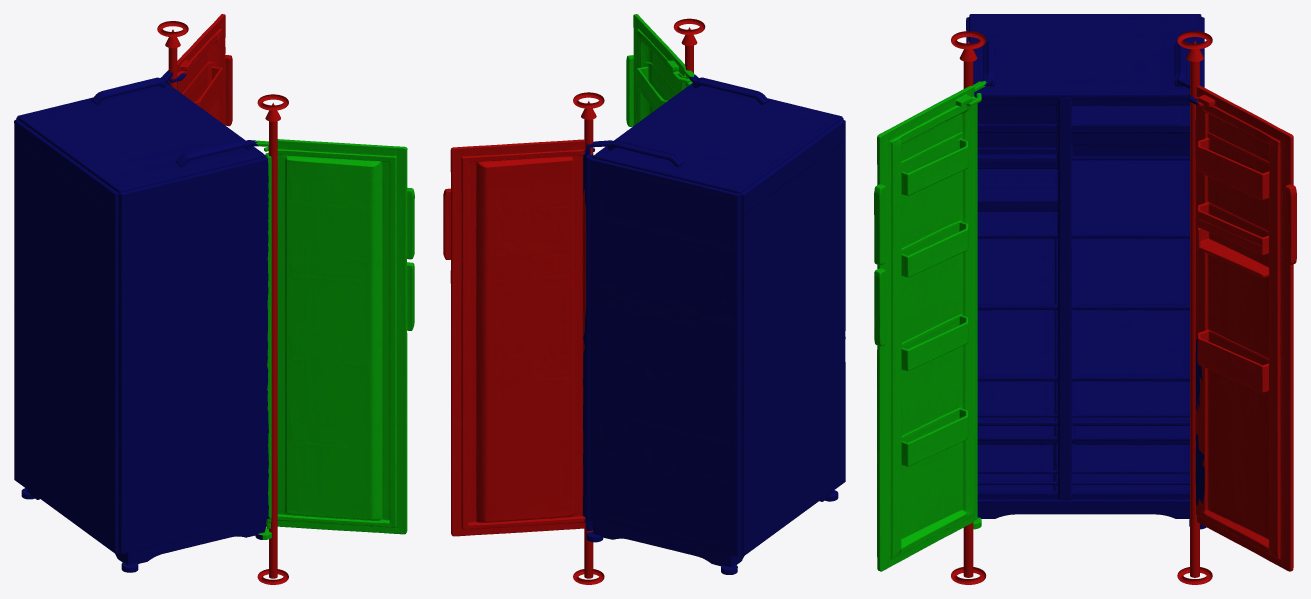
File: fridge_00.glb
3 views of the same model, side by side, from view 1: azimuth 30°, elevation 25°; view 2: azimuth 150°, elevation 25°; view 3: azimuth 270°, elevation 25° (orthographic). The views are drawn at different scales.
Visible parts, largest first — view 1: world; view 2: world; view 3: world.
Part boxes in pixels (bbox=[...]): world: bbox=[14, 14, 414, 584]; world: bbox=[443, 14, 845, 584]; world: bbox=[874, 14, 1296, 584].
Size of the model in its own units: 0.6863 by 1.21 by 0.8588.
1 material, 1 textured.
